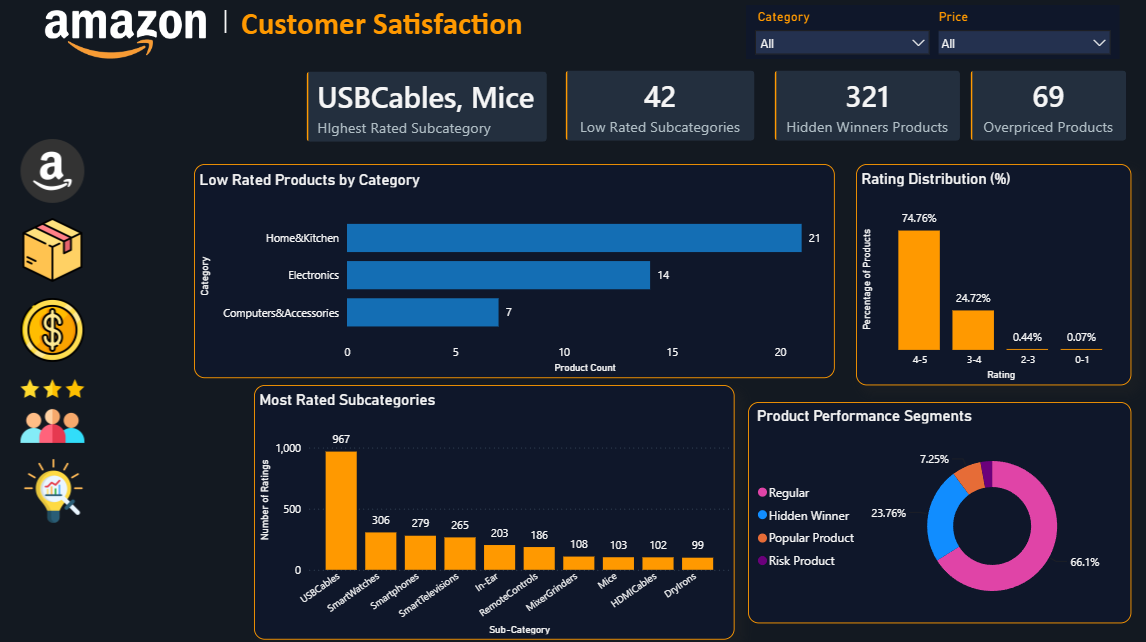

Layout of this report page (visuals, bound fields, positions):
{"tool":"powerbi","page":{"name":"Customer","canvas":[1280,720],"ordinal":3},"visuals":[{"type":"slicer","fields":{"Values":["amazon.sale-price_bands"]},"box":[1035.5,7.8,214.4,60],"z":0,"group":"g3"},{"type":"image","box":[24.4,13.3,241.1,54.4],"z":0,"group":"g2"},{"type":"cardVisual","fields":{"Data":["amazon.HIghest Rated Subcategory"]},"box":[340.6,77.2,277.8,88.9],"z":0,"group":"g4"},{"type":"group","id":"g1","title":"Slides","box":[23.3,156.7,82.2,426.7],"z":0},{"type":"image","box":[23.3,156.7,81.5,71.2],"z":0,"group":"g1"},{"type":"image","box":[24.4,512.3,81.5,71.2],"z":500,"group":"g1"},{"type":"group","id":"g2","title":"Header Icon","box":[24.4,0,578.9,67.8],"z":1000},{"type":"shape","box":[256.6,0,346.7,56.7],"z":1000,"group":"g2"},{"type":"slicer","fields":{"Values":["amazon.main_category","amazon.sub_category"]},"box":[834.4,7.8,214.4,60],"z":1000,"group":"g3"},{"type":"cardVisual","fields":{"Data":["amazon.Low Rated Subcategory"]},"box":[628.9,76,220,88.9],"z":1000,"group":"g4"},{"type":"image","box":[23.3,244.5,81.5,71.2],"z":1000,"group":"g1"},{"type":"group","id":"g3","title":"Slicer","box":[834.4,7.8,415.6,60],"z":2000},{"type":"shape","box":[92.2,13.3,327.8,25.6],"z":2000,"group":"g2"},{"type":"cardVisual","fields":{"Data":["amazon.Hidden Winners"]},"box":[861.1,76,216.7,88.9],"z":2000,"group":"g4"},{"type":"image","box":[23.3,333.2,81.5,71.2],"z":2000,"group":"g1"},{"type":"group","id":"g4","title":"KPI","box":[340.6,76,921.6,90.1],"z":3000},{"type":"cardVisual","fields":{"Data":["amazon.Overpriced Products"]},"box":[1078.9,76,183.3,88.9],"z":3000,"group":"g4"},{"type":"image","box":[23.3,423.4,81.5,71.2],"z":3000,"group":"g1"},{"type":"clusteredColumnChart","title":"Most Rated Subcategories","fields":{"Y":["Sum(amazon.rating)"],"Category":["amazon.sub_category"]},"box":[287.8,430,534.4,283.3],"z":4000},{"type":"clusteredBarChart","title":"Low Rated Products by Category","fields":{"Category":["amazon.main_category"],"Y":["Count(amazon.product_id)"]},"box":[221.1,184.4,712.2,237.8],"z":5000},{"type":"donutChart","title":"Product Performance Segments","fields":{"Category":["amazon.product_segment"],"Y":["Count(amazon.product_id)"]},"box":[836.7,448.9,425.6,245.6],"z":7000},{"type":"clusteredColumnChart","title":"Rating Distribution (%)","fields":{"Y":["CountNonNull(amazon.product_id)"],"Category":["amazon.rating_band"]},"box":[956.7,184.4,305.6,245.6],"z":8000}]}

Visuals, with their boxes in screenshot pixels (x1, y1, x2, y2), scaled from the page's 1280x720 canvas onto the 1146x642 screenshot:
slicer - amazon.sale-price_bands: bbox(927, 7, 1119, 60)
image: bbox(22, 12, 238, 60)
cardVisual - amazon.HIghest Rated Subcategory: bbox(305, 69, 554, 148)
"Slides" group: bbox(21, 140, 94, 520)
image: bbox(21, 140, 94, 203)
image: bbox(22, 457, 95, 520)
"Header Icon" group: bbox(22, 0, 540, 60)
shape: bbox(230, 0, 540, 51)
slicer - amazon.main_category x amazon.sub_category: bbox(747, 7, 939, 60)
cardVisual - amazon.Low Rated Subcategory: bbox(563, 68, 760, 147)
image: bbox(21, 218, 94, 281)
"Slicer" group: bbox(747, 7, 1119, 60)
shape: bbox(83, 12, 376, 35)
cardVisual - amazon.Hidden Winners: bbox(771, 68, 965, 147)
image: bbox(21, 297, 94, 361)
"KPI" group: bbox(305, 68, 1130, 148)
cardVisual - amazon.Overpriced Products: bbox(966, 68, 1130, 147)
image: bbox(21, 378, 94, 441)
"Most Rated Subcategories" clusteredColumnChart: bbox(258, 383, 736, 636)
"Low Rated Products by Category" clusteredBarChart: bbox(198, 164, 836, 376)
"Product Performance Segments" donutChart: bbox(749, 400, 1130, 619)
"Rating Distribution (%)" clusteredColumnChart: bbox(857, 164, 1130, 383)
